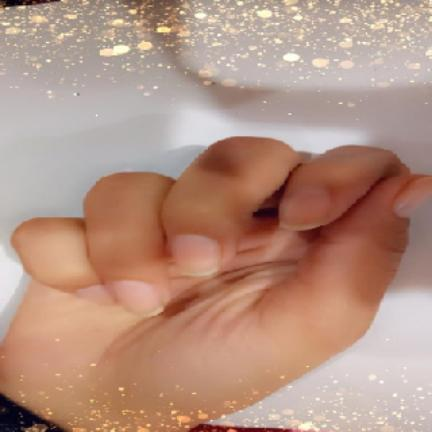Nail: (279, 187, 331, 230), (172, 235, 220, 276), (109, 280, 162, 315), (393, 176, 432, 216), (78, 285, 112, 304)
